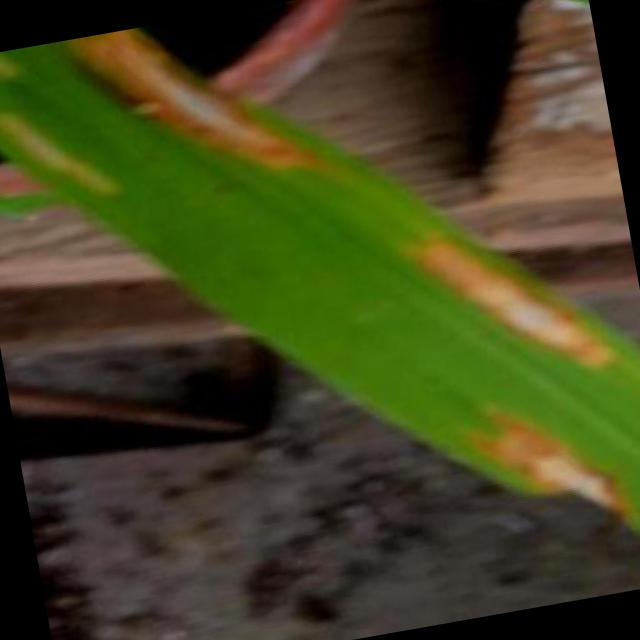Rice_Blast: (378, 338, 630, 558), (396, 179, 611, 405), (89, 10, 300, 200), (0, 73, 120, 230)
